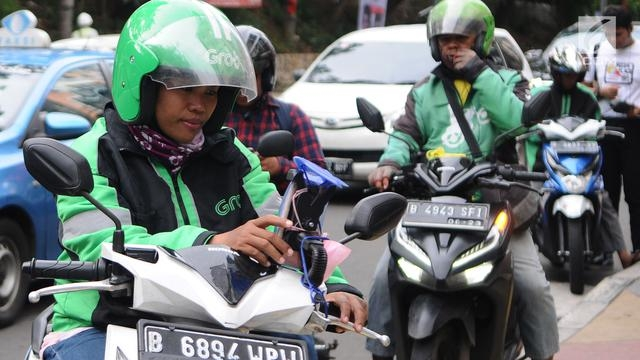plate: (141, 320, 307, 360), (406, 196, 489, 233), (549, 139, 596, 156)
